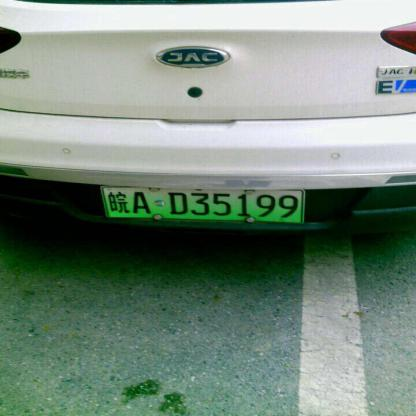lp: (101, 189, 306, 223)
